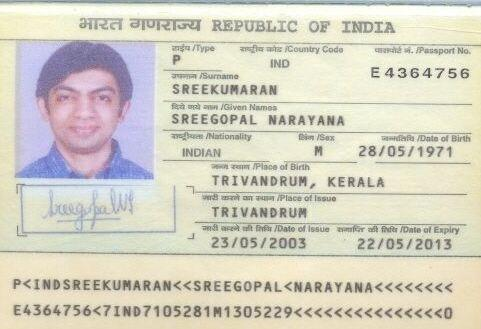DOB: (355, 142, 463, 164)
Surname: (168, 81, 293, 104)
country_code: (265, 50, 309, 73)
date_of_expiry: (353, 232, 461, 258)
date_of_issue: (206, 230, 312, 259)
details: (0, 261, 474, 329)
name: (168, 106, 351, 130)
nationality: (176, 140, 261, 162)
passport_no: (365, 54, 473, 82)
photo: (16, 40, 154, 181)
place_of_birth: (204, 165, 392, 189)
place_of_issue: (206, 194, 325, 224)
sex: (300, 144, 347, 163)
sign: (17, 186, 164, 239)
type: (167, 49, 207, 68)
